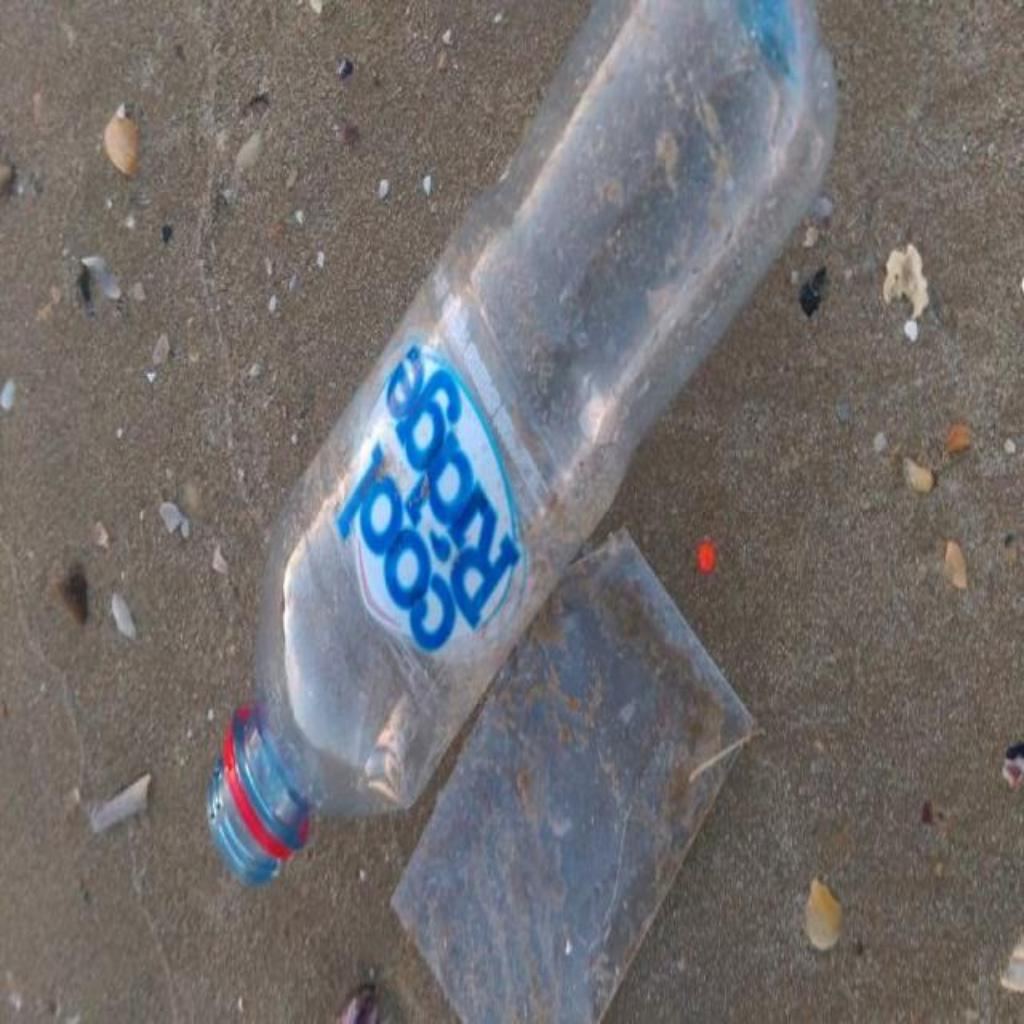garbage: (208, 4, 835, 882), (394, 533, 758, 1024)
